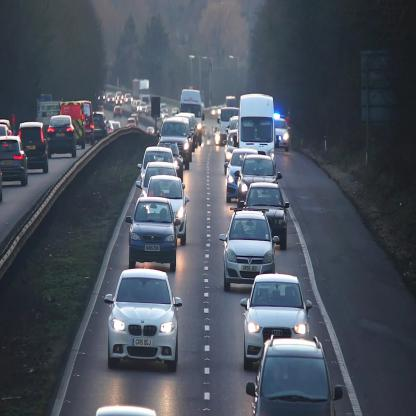car: (245, 333, 343, 416), (103, 269, 182, 369), (240, 274, 311, 372), (220, 209, 279, 293), (126, 199, 180, 272), (143, 174, 190, 244), (245, 183, 290, 252), (236, 153, 282, 206), (224, 148, 258, 205), (156, 118, 192, 168), (19, 123, 48, 172), (1, 136, 28, 187), (46, 116, 76, 158), (275, 118, 289, 152)
truck: (238, 92, 276, 168), (180, 90, 202, 146), (219, 108, 238, 144)
